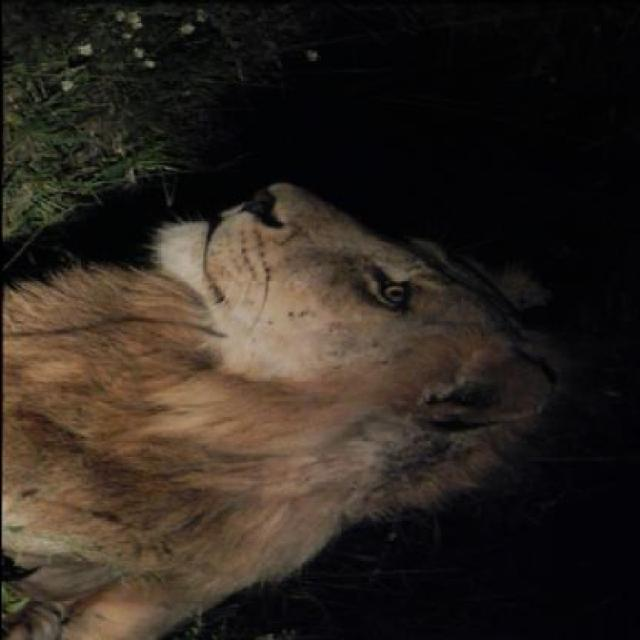Lion: (2, 174, 584, 638)
